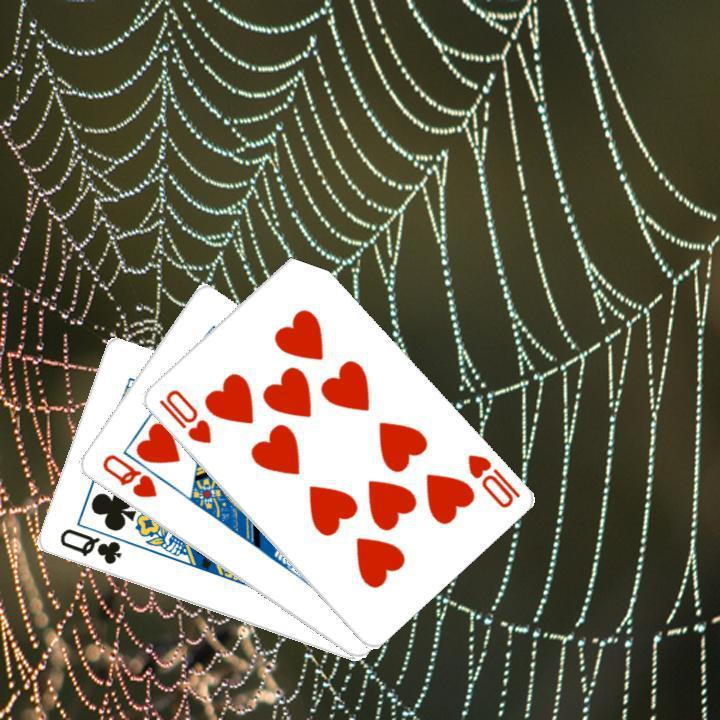10: (462, 450, 522, 511), (154, 385, 213, 446)
Q: (97, 449, 159, 500), (55, 524, 124, 567)
